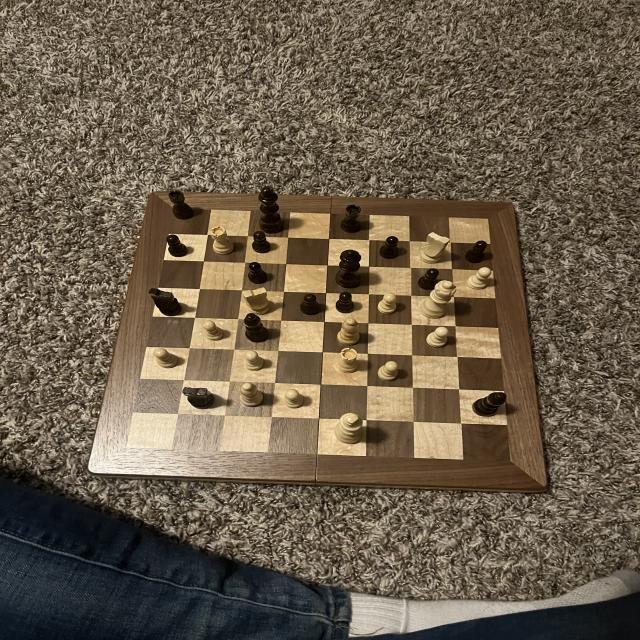bishop: (470, 390, 510, 420), (241, 312, 273, 345)
black-bishop: (255, 184, 287, 238)
black-king: (146, 284, 188, 320), (180, 383, 218, 411)
black-knight: (245, 259, 270, 286), (463, 238, 488, 265), (417, 267, 442, 293), (377, 234, 401, 261), (298, 292, 322, 318), (333, 290, 358, 314), (166, 234, 190, 258), (250, 229, 272, 255)
black-pawn: (332, 247, 366, 292)
black-queen: (167, 188, 198, 222), (338, 203, 364, 234)
black-rook: (333, 318, 365, 344), (238, 381, 266, 409)
white-bishop: (331, 411, 368, 448)
white-king: (415, 231, 452, 265), (240, 284, 274, 318)
white-knight: (150, 346, 181, 370), (465, 266, 493, 292), (425, 324, 451, 348), (242, 348, 268, 372), (374, 292, 399, 316), (282, 387, 307, 411), (201, 318, 226, 342), (376, 360, 400, 381)
white-pawn: (418, 278, 460, 320)
white-queen: (210, 224, 238, 256), (333, 346, 361, 376)
